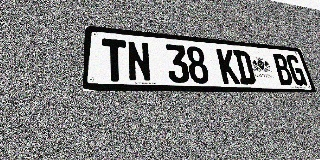3: (165, 44, 190, 83)
8: (185, 46, 210, 84)
B: (271, 53, 294, 85)
D: (233, 50, 257, 85)
G: (285, 55, 308, 86)
K: (216, 48, 240, 84)
N: (127, 40, 152, 82)
T: (102, 38, 128, 82)
